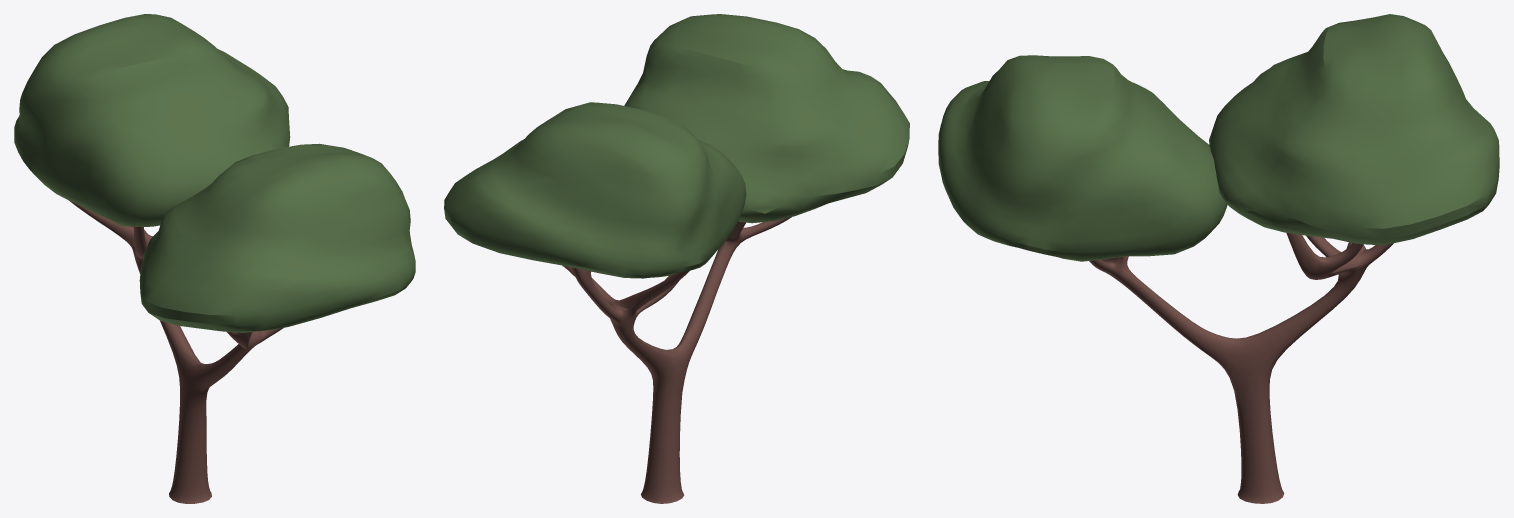
Rendered from Tree_1.fbx.
The picture shows the model from 3 angles, left to right: view 1: azimuth 30°, elevation 25°; view 2: azimuth 150°, elevation 25°; view 3: azimuth 270°, elevation 25°; orthographic projection. The views are drawn at different scales.
Parts seen in each view (by area): view 1: CommonTree_1; view 2: CommonTree_1; view 3: CommonTree_1.
Boxes of the visible parts, x1=… form: CommonTree_1: x1=14, y1=14, x2=415, y2=503; CommonTree_1: x1=444, y1=14, x2=909, y2=503; CommonTree_1: x1=938, y1=14, x2=1499, y2=503.
Size of the model in its own units: 174 by 244 by 272.
